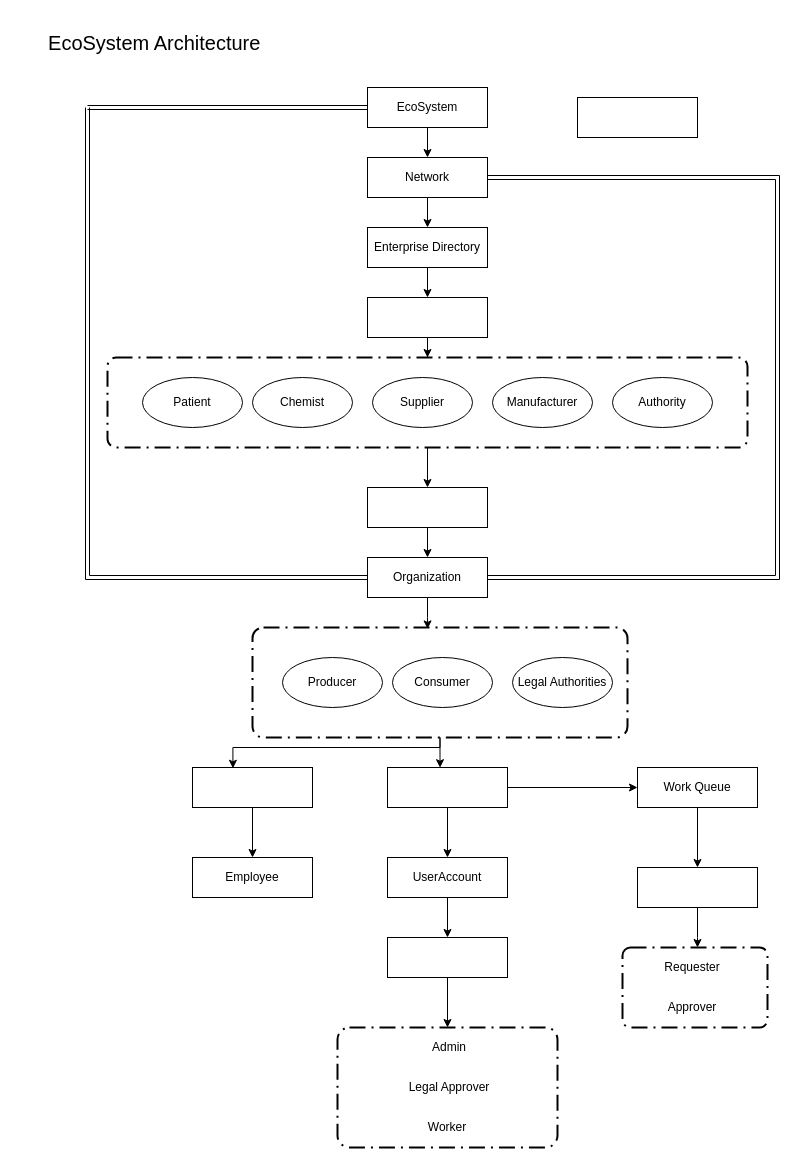
Image size: 797x1165. Some labels were removed from this diagram. The centre of each missing label's shape, as x and y in pixels:
Configure A System: point 637,117
Employee Directory: point 252,787
Enterprise: point 427,317
Organization Directory: point 427,507
Role: point 447,957
User Account Directory: point 447,787
Work Request: point 697,887
